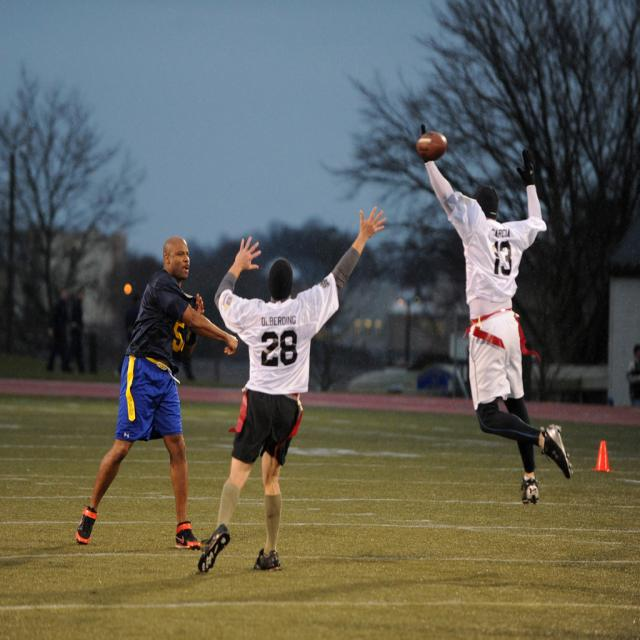Ball: (415, 128, 447, 160)
